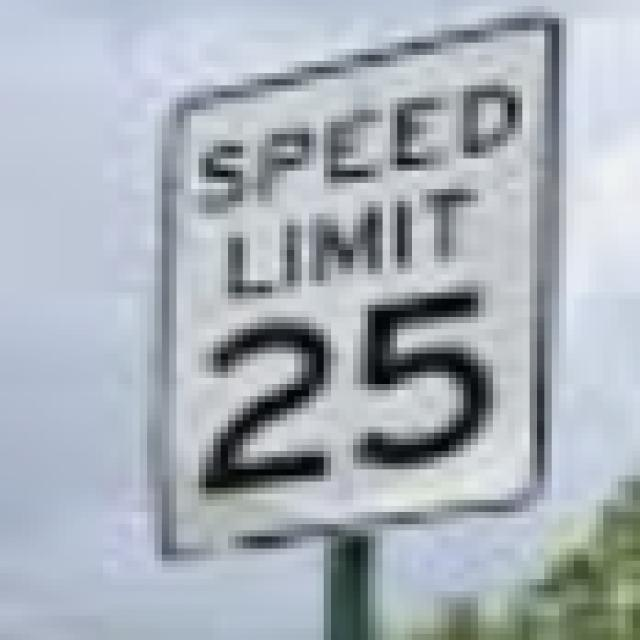speedLimit25: (156, 12, 554, 554)
